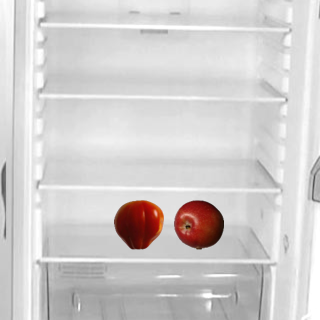Apple Braeburn: (173, 199, 223, 249)
Tomato 1: (113, 199, 163, 249)
